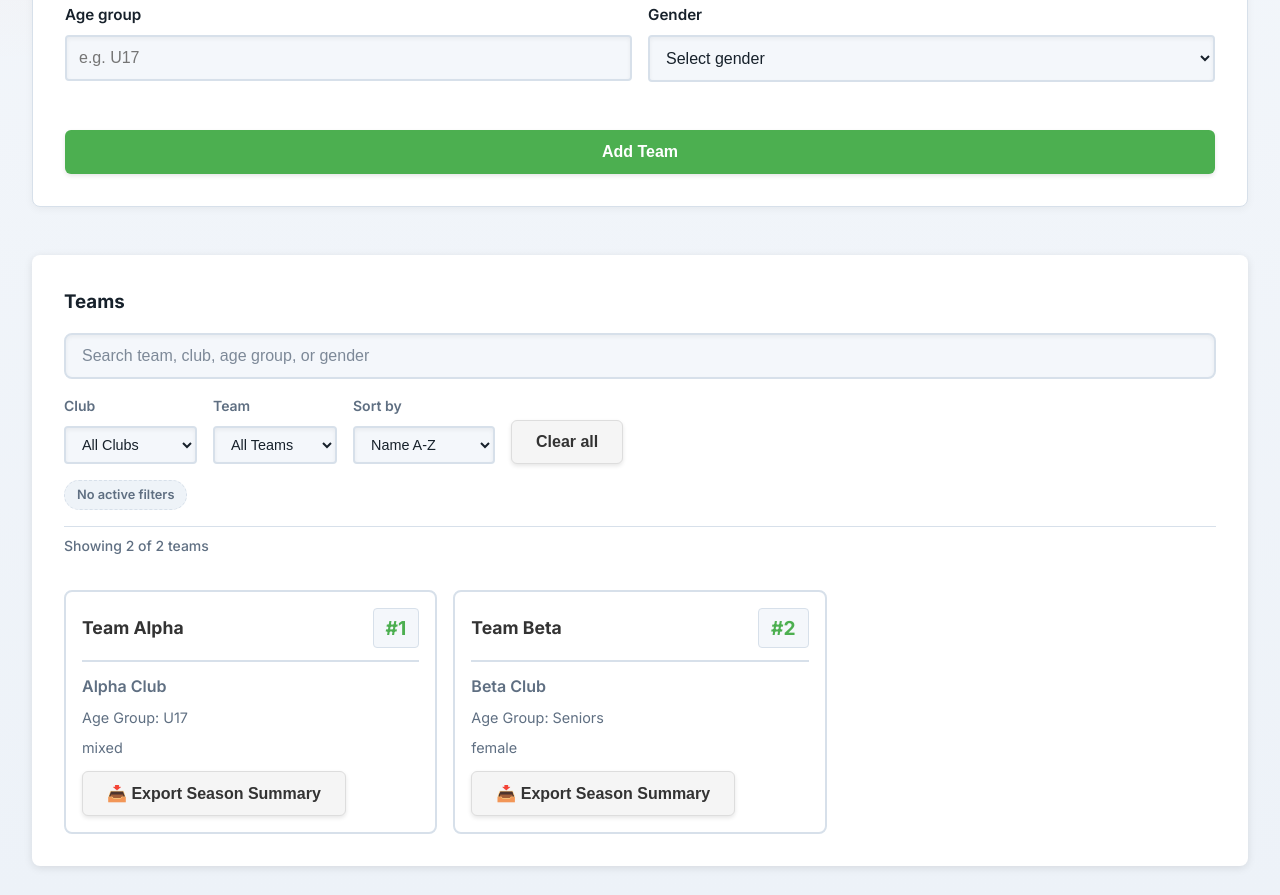
Team Management: Filters › shows an empty state for a club with no teams
(page scrolled)
Select "Gamma Club" in the dropdown with id "club_filter". click: (131, 445)
box: [64,426,197,464]
(page scrolled)
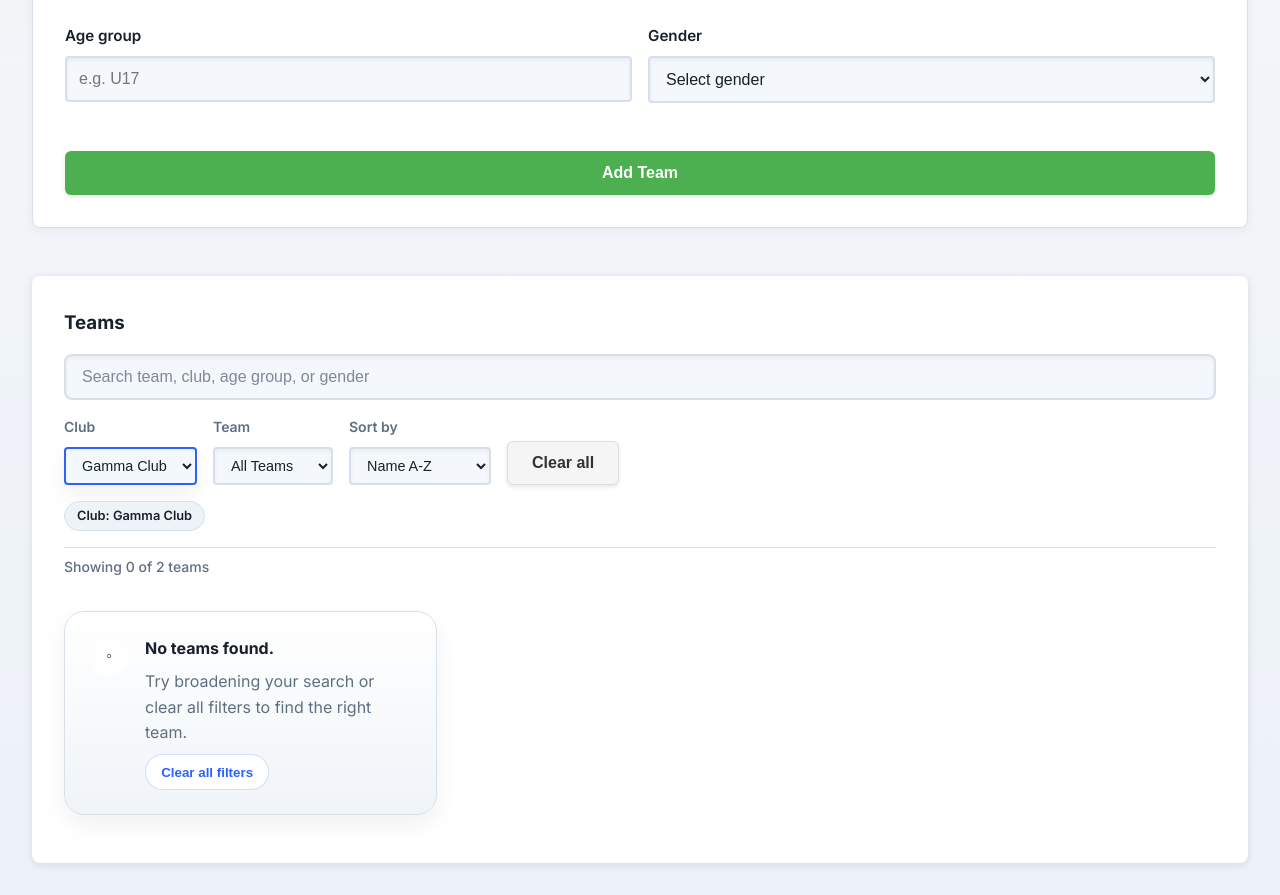
Result: the text "No teams found." is shown at [145,638,274,658]
Result: the text "Showing 0 of 2 teams" is shown at [64,547,1216,587]
